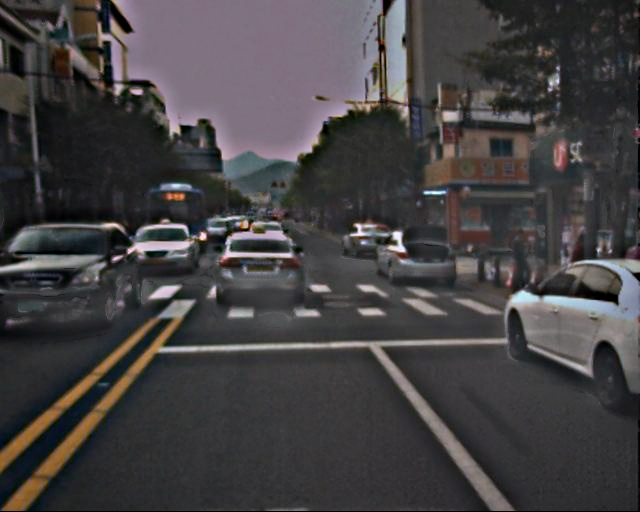person: (509, 227, 532, 290)
